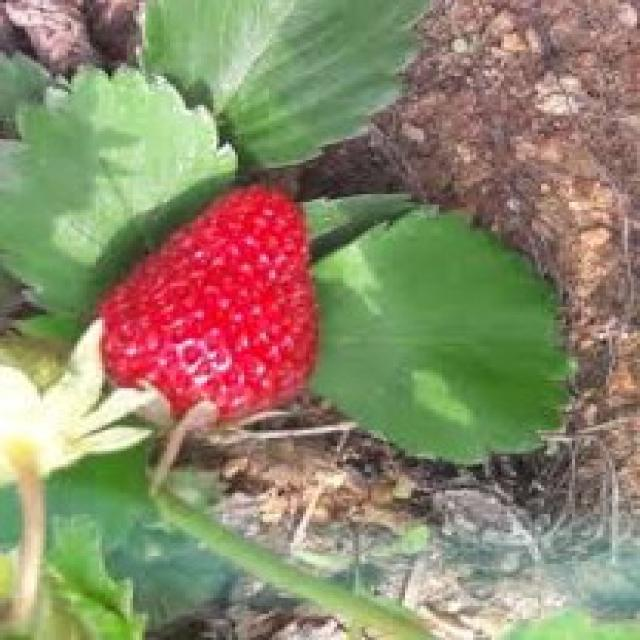mature: (100, 188, 320, 426)
